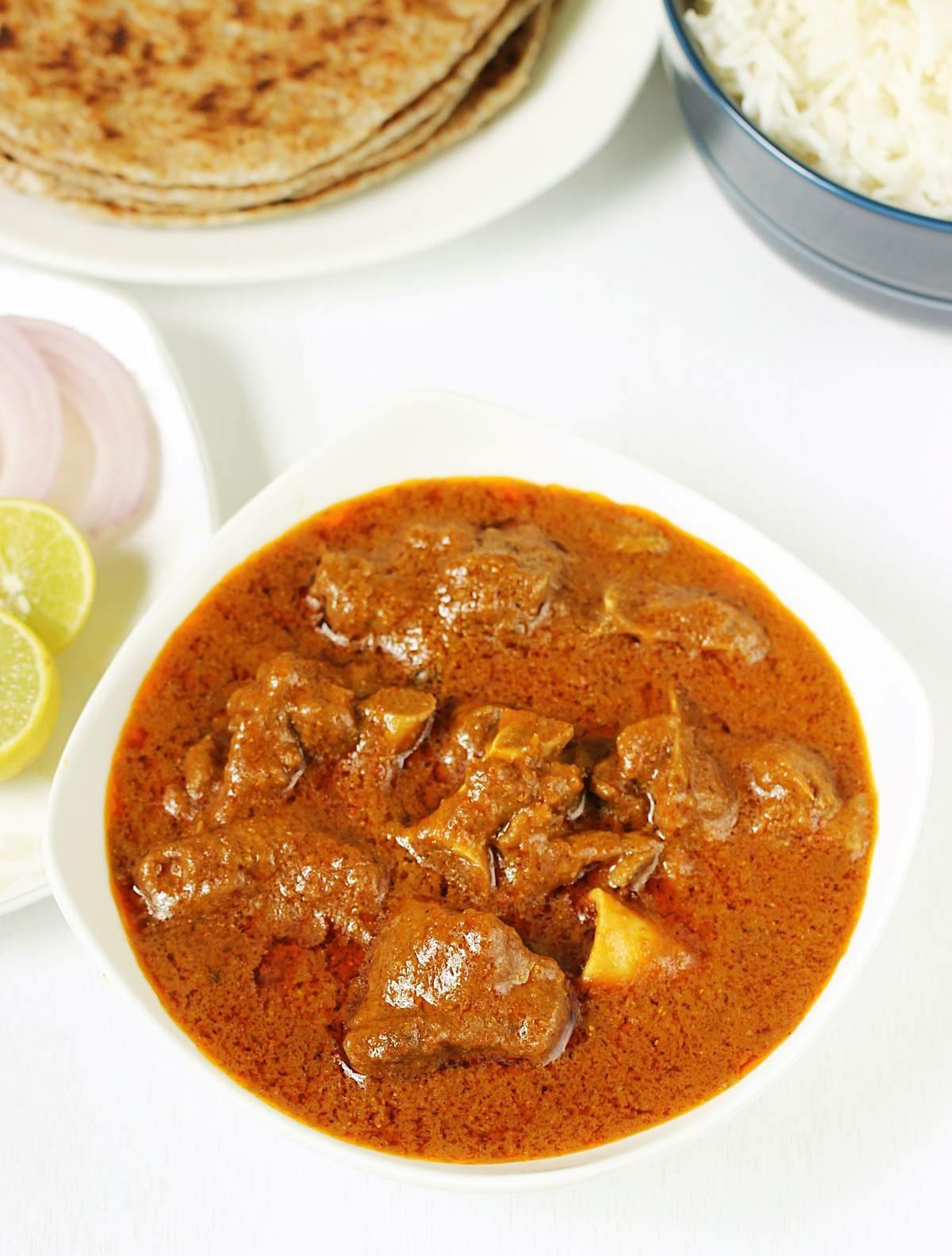MuttonCurry: (101, 480, 871, 1159)
